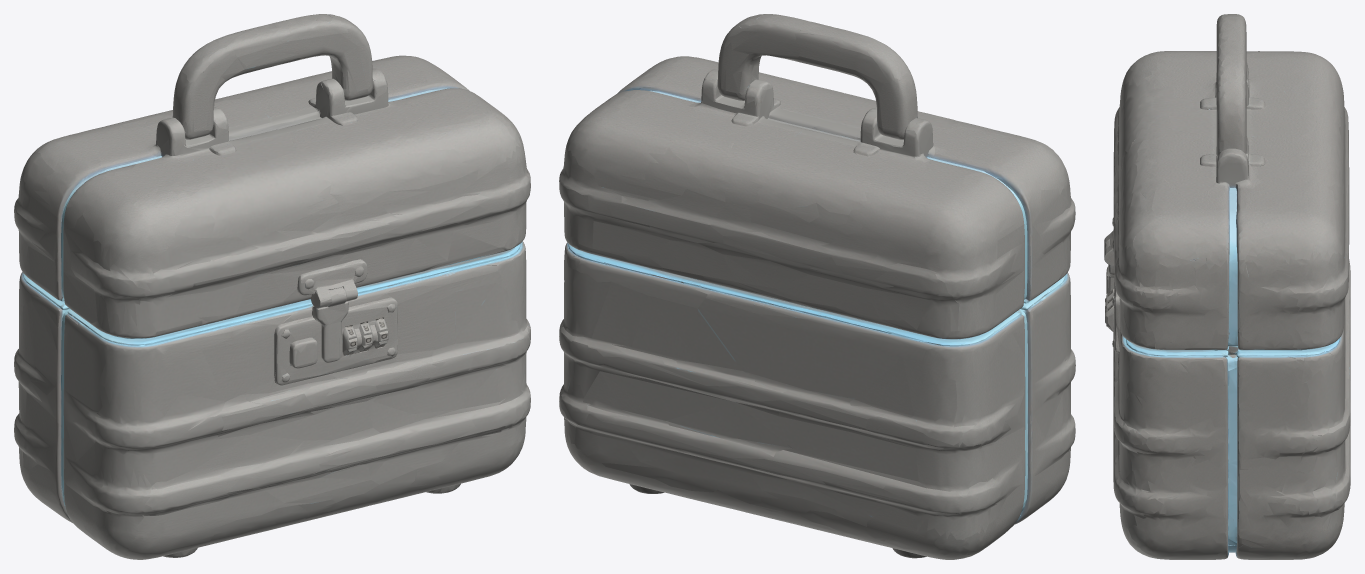
File: t3-titanium.original.glb
The picture shows the model from 3 angles, left to right: view 1: azimuth 30°, elevation 25°; view 2: azimuth 150°, elevation 25°; view 3: azimuth 270°, elevation 25°; orthographic projection. The views are drawn at different scales.
Visible parts, largest first — view 1: mesh_node; view 2: mesh_node; view 3: mesh_node.
Part boxes in pixels (x1,y1,x2,y2): mesh_node: (14, 14, 530, 559); mesh_node: (559, 14, 1075, 559); mesh_node: (1104, 14, 1350, 559).
Size of the model in its own units: 1.83 by 1.9 by 0.9573.
Materials: 1 (1 with a texture image).
